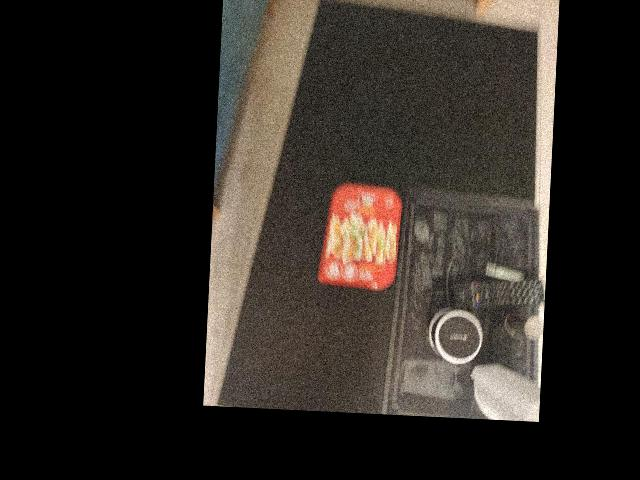cheese: (315, 181, 403, 289)
